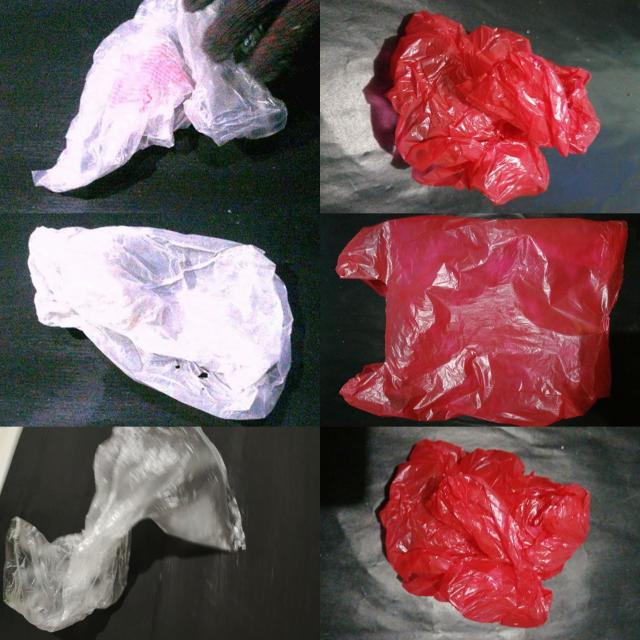Single-layer Plastic: (337, 216, 627, 426), (28, 226, 293, 419), (4, 428, 245, 631), (33, 0, 286, 192), (387, 11, 599, 204), (379, 440, 590, 628)
